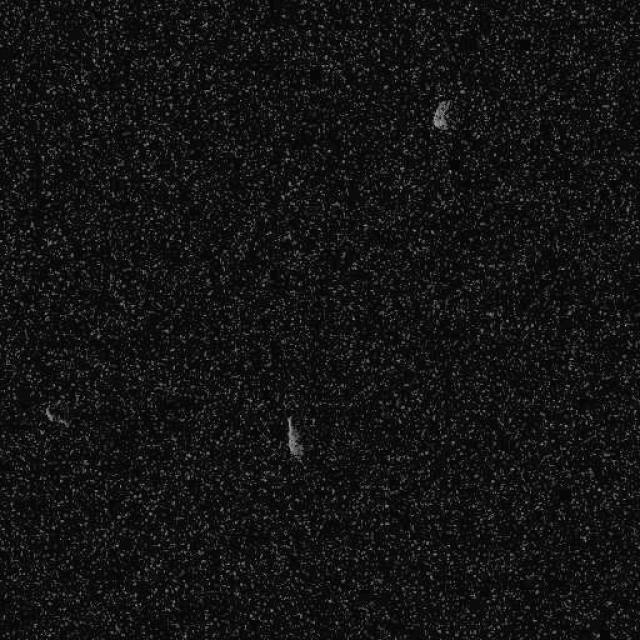D2: (285, 414, 304, 460), (430, 98, 454, 132), (42, 404, 70, 428)
